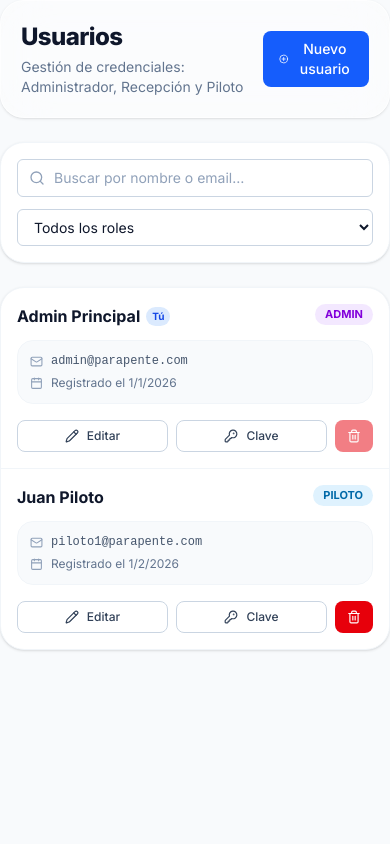
Test: AdminUsersPage - Edición de usuario › 3. Al editarse a sí mismo (el admin actual), SOLO muestra el campo nombre y oculta el resto de opciones
Expected: the text "Admin Principal" is shown, [17,304,140,328]
// Abrir modal de edición para sí mismo (id: 1)
Click the button with aria-label "Editar admin@parapente.com".
click(92, 436)  # box [17,420,168,452]
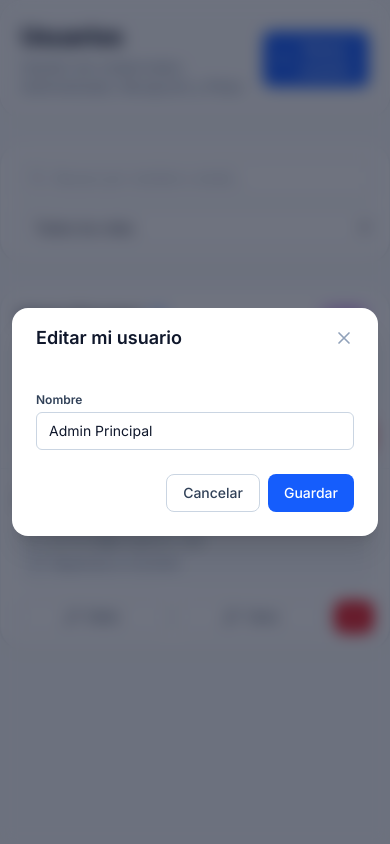
Now the heading "Editar mi usuario" is shown, box [36,324,182,352]
Now the field with placeholder "Ej: María García" holds "Admin Principal", box [36,412,354,450]
